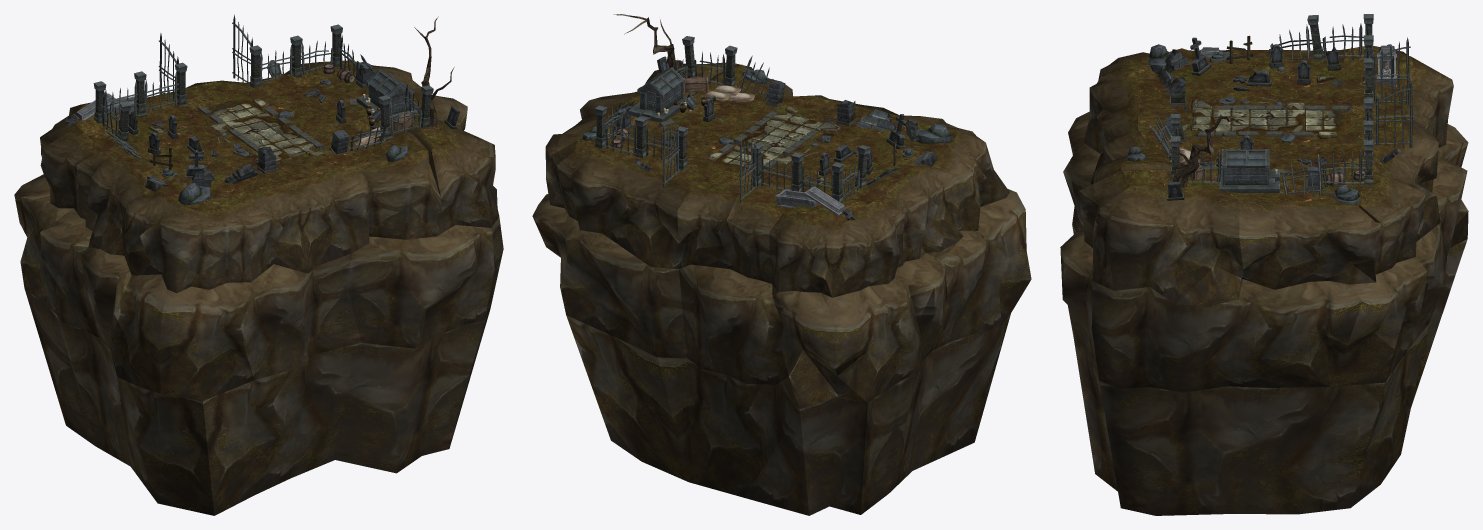
The model's file is cell2UD.fbx.
The picture shows the model from 3 angles, left to right: view 1: azimuth 30°, elevation 25°; view 2: azimuth 150°, elevation 25°; view 3: azimuth 270°, elevation 25°; orthographic projection. The views are drawn at different scales.
Visible parts, largest first — view 1: cell2UD; view 2: cell2UD; view 3: cell2UD.
Part boxes in pixels (bbox=[...]): cell2UD: bbox=[14, 14, 503, 515]; cell2UD: bbox=[532, 14, 1031, 515]; cell2UD: bbox=[1060, 14, 1468, 515].
Size of the model in its own units: 25.71 by 23.66 by 21.3.
